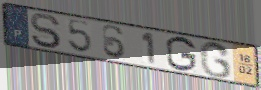1: (140, 31, 158, 66)
5: (66, 17, 94, 54)
6: (101, 24, 127, 61)
G: (198, 40, 233, 80), (164, 35, 198, 73)
S: (29, 12, 63, 50)
